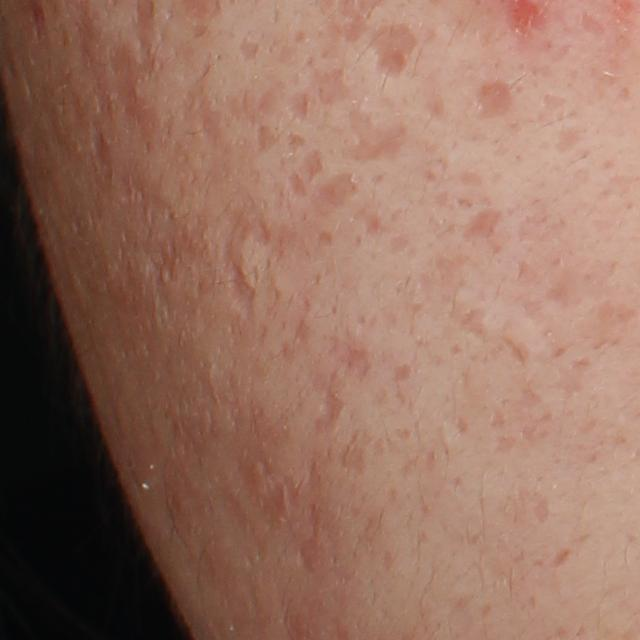atrophic_scar: (219, 201, 260, 327), (336, 107, 408, 164), (280, 67, 350, 123), (243, 222, 282, 320), (305, 360, 348, 441), (547, 356, 591, 413), (325, 333, 373, 383), (309, 172, 359, 214), (474, 80, 518, 122), (548, 269, 582, 311), (460, 209, 500, 244), (578, 5, 609, 43), (458, 306, 489, 343), (341, 434, 368, 474), (502, 337, 534, 370), (556, 124, 590, 153), (521, 409, 552, 439), (299, 148, 327, 181), (256, 123, 281, 154), (546, 545, 574, 572), (236, 36, 261, 64), (532, 495, 553, 524), (285, 133, 307, 158), (493, 434, 519, 455), (286, 172, 306, 199), (489, 407, 505, 431), (314, 231, 331, 250), (394, 364, 411, 382)
